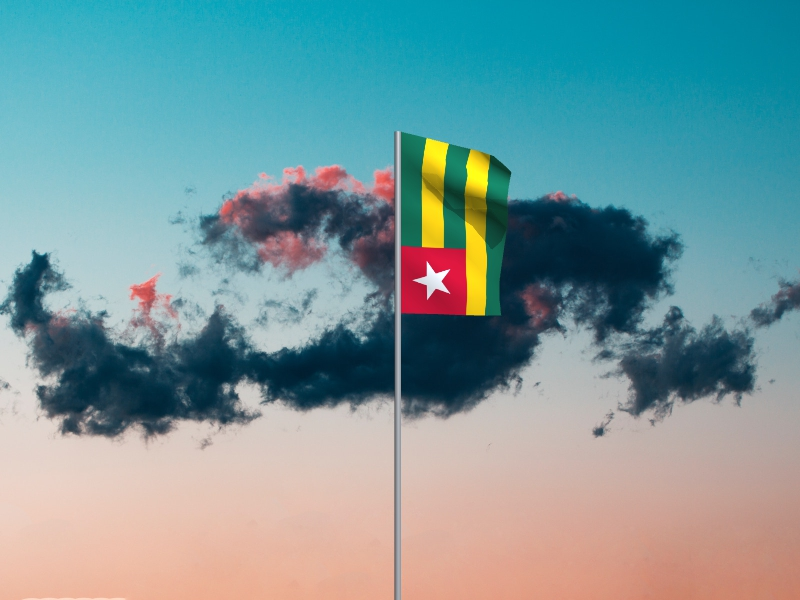tg: (401, 133, 512, 317)
